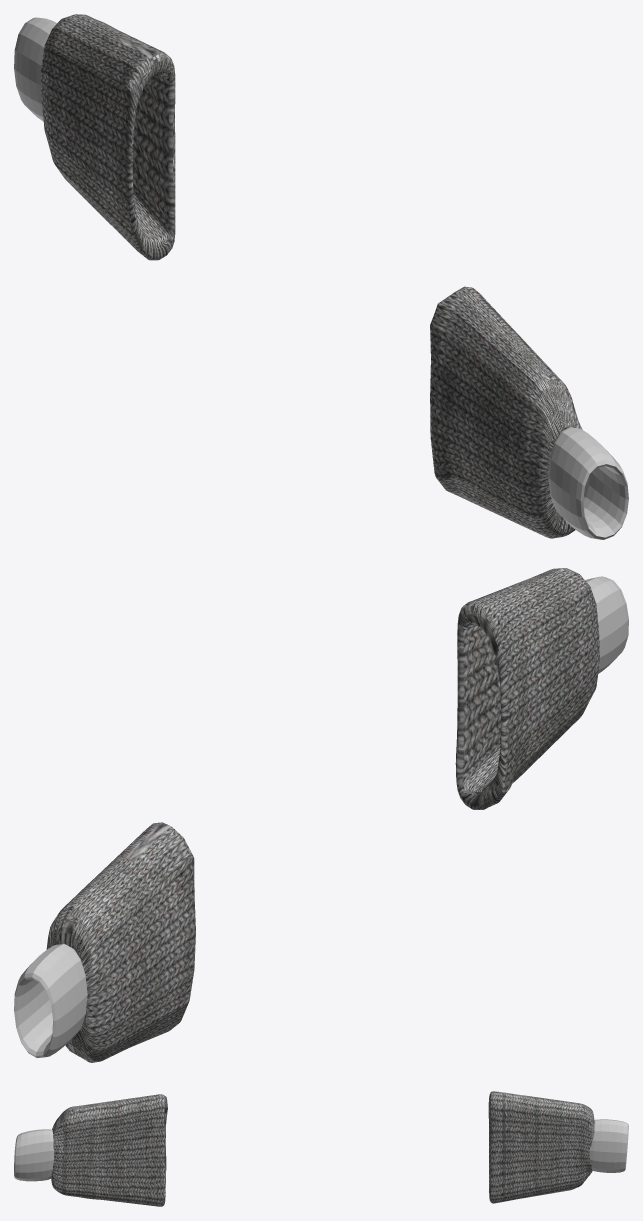
File: drop-sleeve-short.fbx
3 views of the same model, one above another, from view 1: azimuth 30°, elevation 25°; view 2: azimuth 150°, elevation 25°; view 3: azimuth 270°, elevation 25° (orthographic). The views are drawn at different scales.
Visible parts, largest first — view 1: Cube.005, Cube.002, Cube.006, Cube.003; view 2: Cube.005, Cube.002, Cube.003, Cube.006; view 3: Cube.005, Cube.002, Cube.006, Cube.003.
Boxes of the visible parts, x1,y1,x2,y2 form: Cube.005: (430, 286, 585, 538); Cube.002: (41, 14, 175, 260); Cube.006: (548, 427, 628, 539); Cube.003: (14, 17, 57, 121); Cube.005: (455, 568, 599, 809); Cube.002: (46, 822, 195, 1062); Cube.003: (14, 944, 87, 1057); Cube.006: (585, 576, 628, 673); Cube.005: (51, 1094, 167, 1206); Cube.002: (488, 1091, 594, 1203); Cube.006: (14, 1129, 54, 1181); Cube.003: (589, 1119, 628, 1172).
Bounding box in the file's own units: 17.99 × 59.42 × 290.
